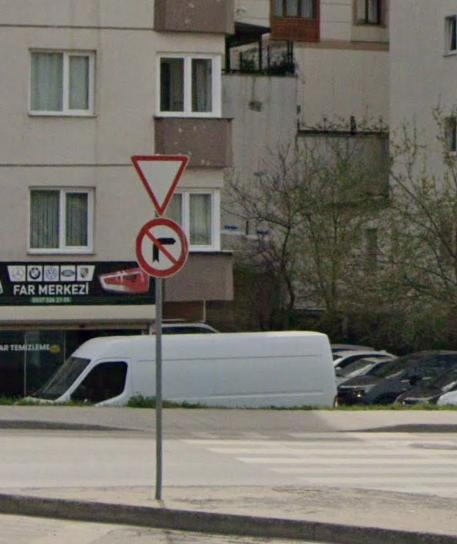rightturnsareforbidden: (140, 221, 186, 277)
